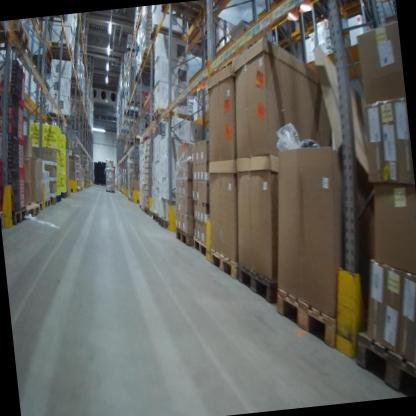pallet: (271, 277, 341, 361), (347, 315, 416, 397), (231, 253, 280, 309), (159, 0, 217, 30), (206, 243, 239, 285), (151, 102, 196, 129), (0, 18, 31, 51), (147, 23, 184, 50), (41, 38, 73, 56), (173, 225, 194, 251), (21, 198, 41, 221), (139, 45, 157, 66), (191, 237, 208, 259), (137, 56, 158, 73), (37, 15, 65, 27), (158, 214, 176, 232), (12, 204, 29, 223), (29, 197, 44, 212), (0, 208, 9, 228), (47, 191, 59, 204), (42, 198, 53, 209), (57, 190, 68, 201), (152, 209, 160, 222), (147, 208, 154, 222), (54, 193, 62, 204), (143, 203, 151, 214)
